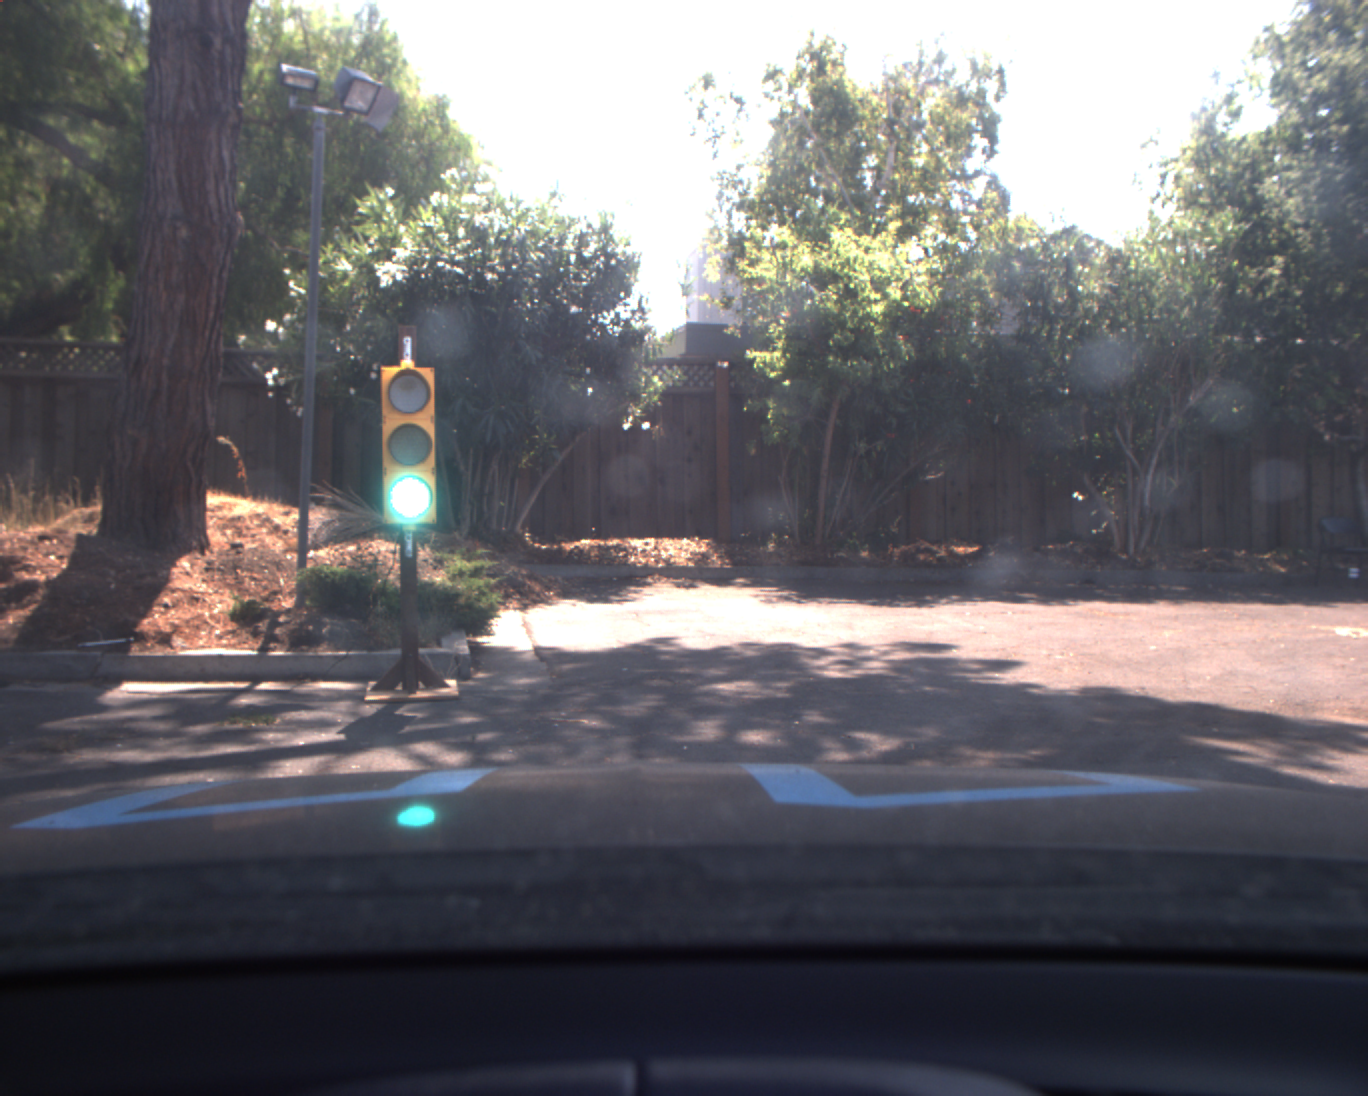green: (374, 362, 442, 527)
